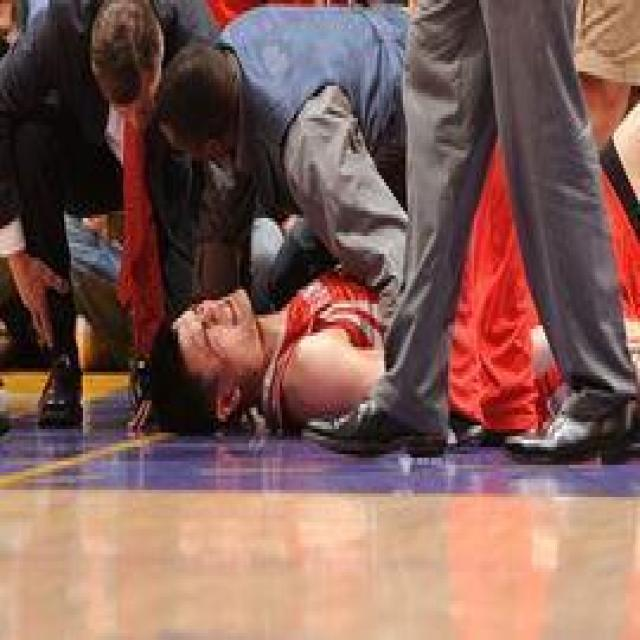fall: (0, 0, 224, 423), (154, 256, 630, 452), (160, 11, 416, 308)
